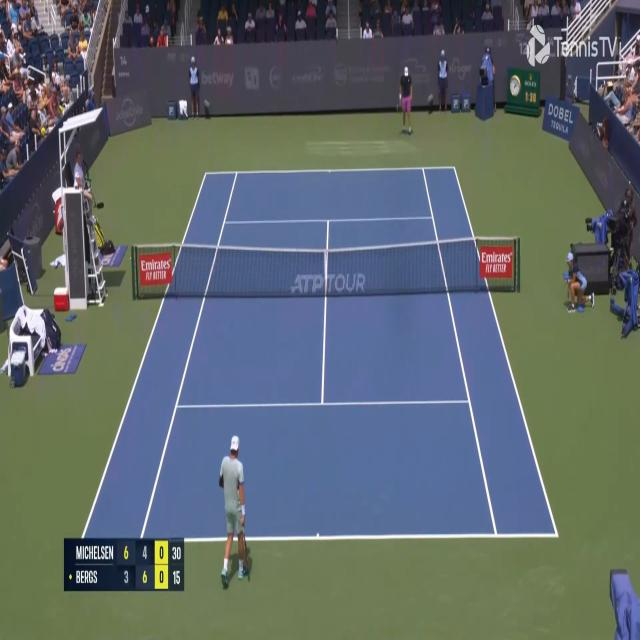tennis-player: (216, 433, 251, 592), (396, 65, 413, 138)
